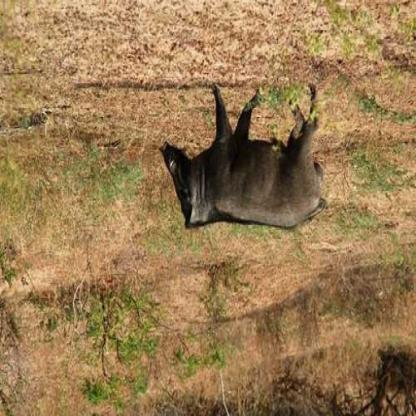boar: (157, 73, 398, 259)
